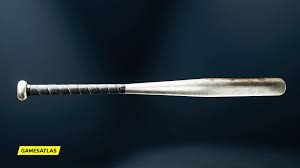baseball bat: (16, 76, 288, 103)
